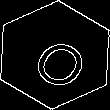O_NE: (19, 21, 91, 89)
